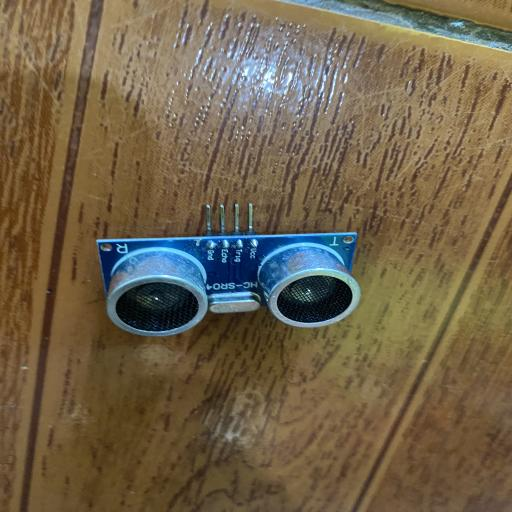Ultrasonic Sensor: (94, 202, 362, 337)
